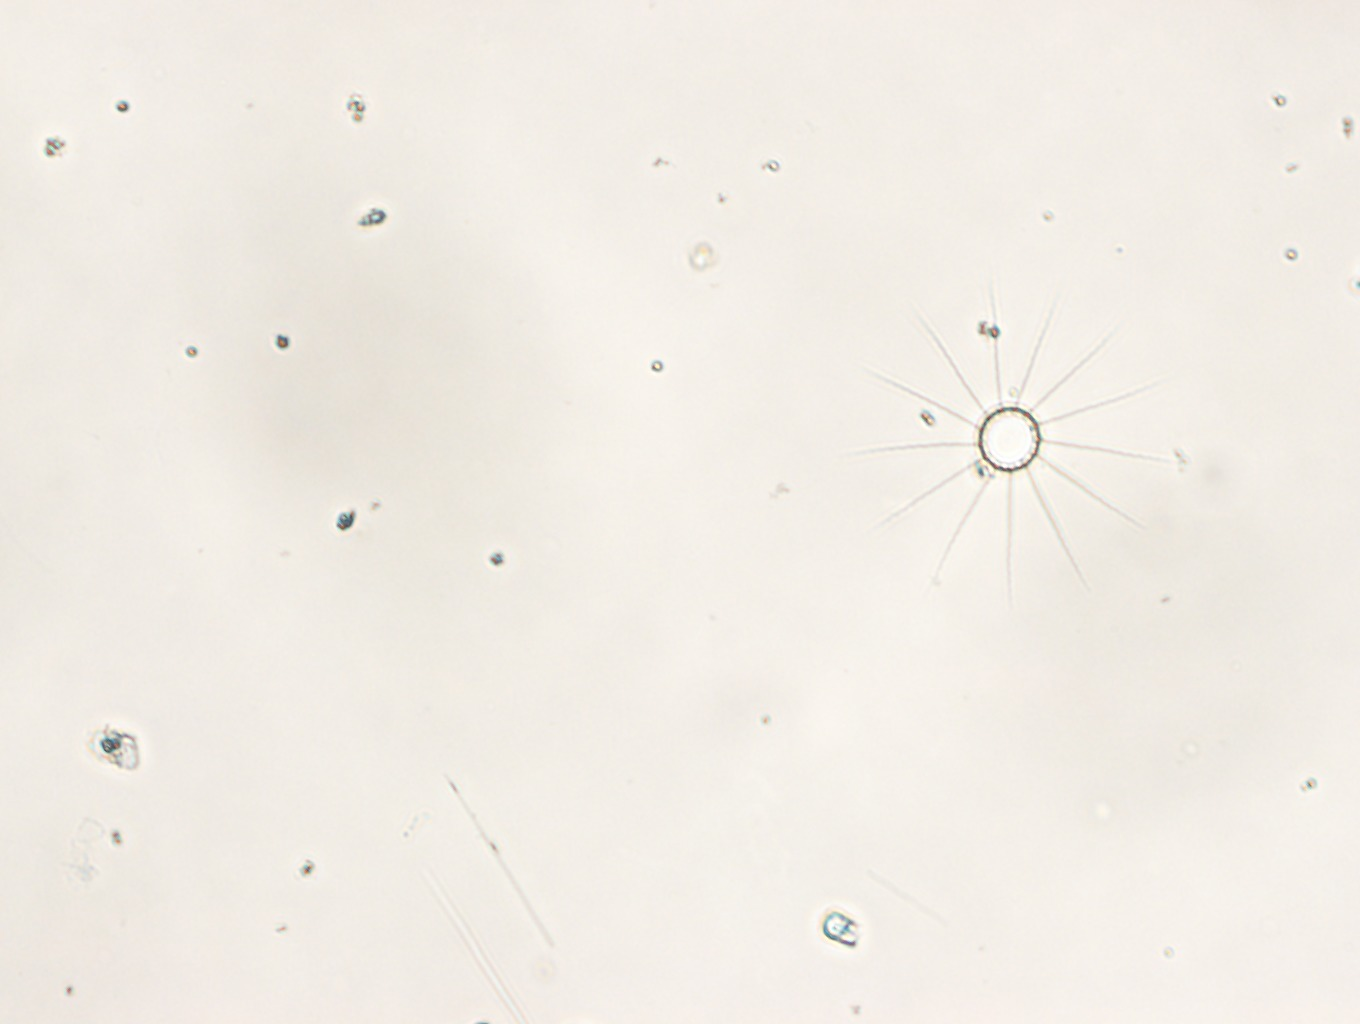bacteriastrum: (845, 282, 1176, 607)
